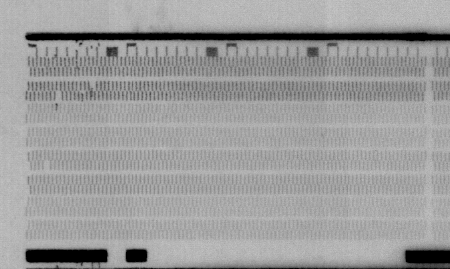Broken hole: (41, 159, 52, 173), (54, 91, 65, 103)
Oblique printing: (86, 79, 100, 95), (77, 91, 89, 103)
